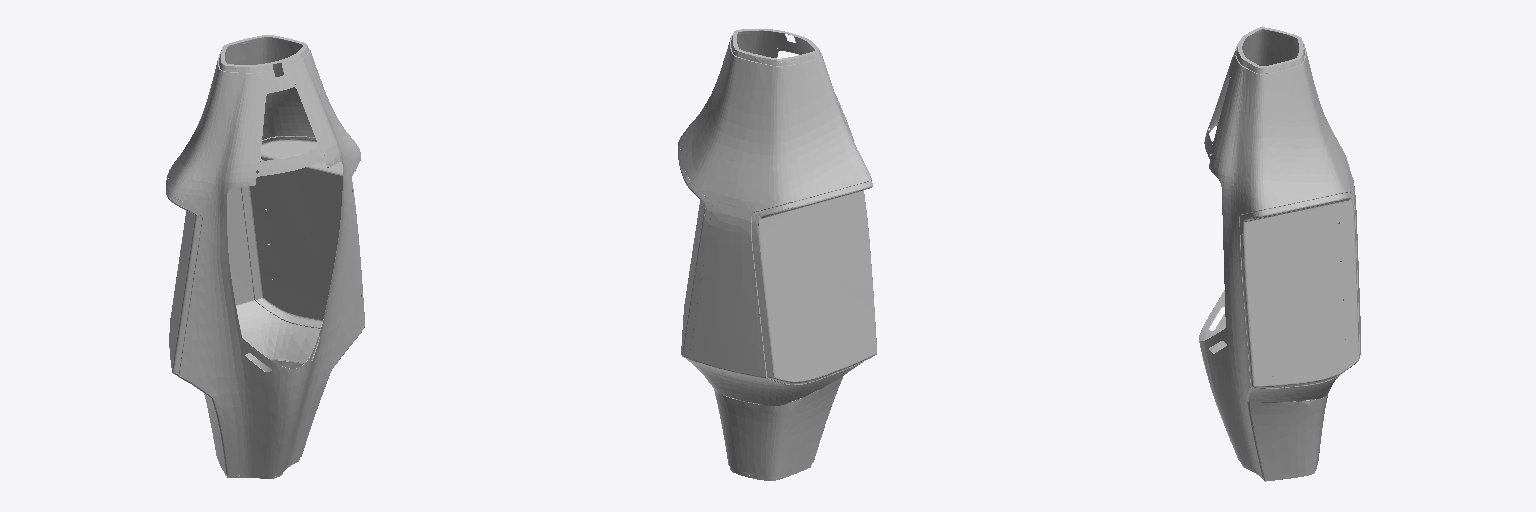
File: Mono_Optimized.obj
The picture shows the model from 3 angles: view 1: azimuth 30°, elevation 25°; view 2: azimuth 150°, elevation 25°; view 3: azimuth 270°, elevation 25°; orthographic projection.
Parts seen in each view (by area): view 1: thick; view 2: thick; view 3: thick.
Part boxes in pixels (left/top/right/bottom): thick: left=166, top=35, right=364, bottom=478; thick: left=678, top=29, right=876, bottom=480; thick: left=1199, top=27, right=1360, bottom=481.
Size of the model in its own units: 98.43 by 203 by 71.82.